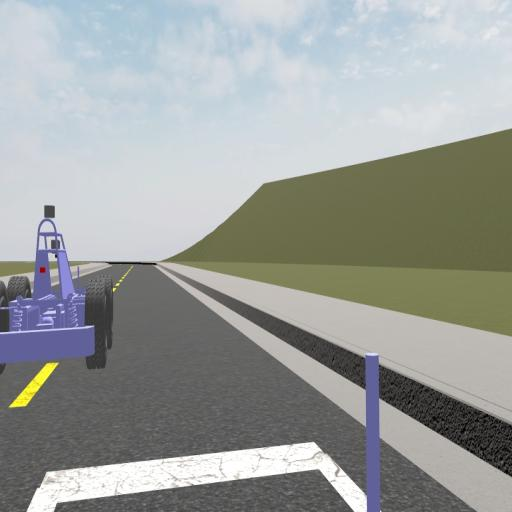ERP-42: (0, 205, 112, 380)
